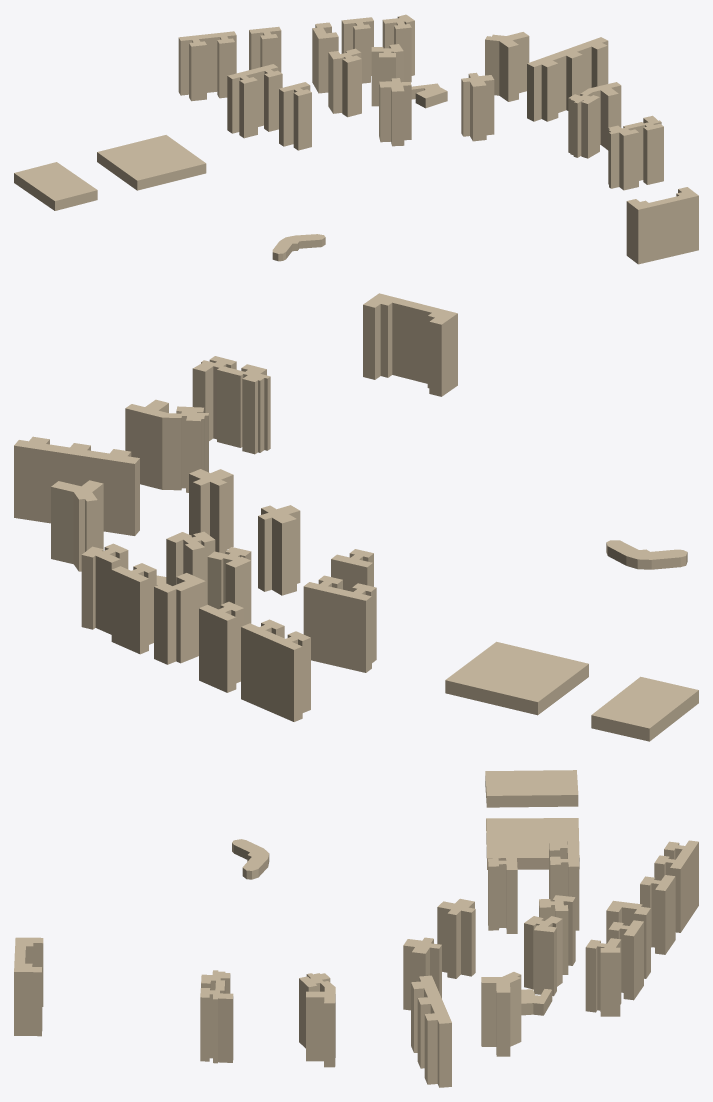
Rendered from -23_22-estimated-coarse.glb.
3 views of the same model, one above another, from view 1: azimuth 30°, elevation 25°; view 2: azimuth 150°, elevation 25°; view 3: azimuth 270°, elevation 25° (orthographic). The views are drawn at different scales.
Size of the model in its own units: 677 by 66 by 641.
